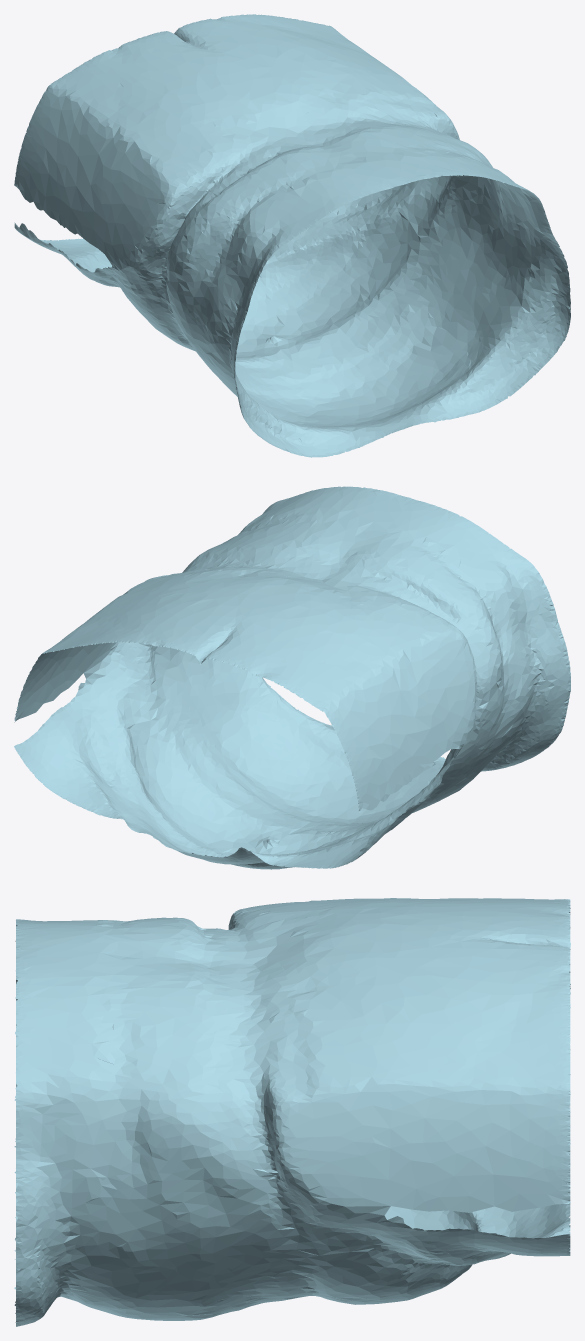
The model's file is skin.obj.
3 views of the same model, one above another, from view 1: azimuth 30°, elevation 25°; view 2: azimuth 150°, elevation 25°; view 3: azimuth 270°, elevation 25° (orthographic). The views are drawn at different scales.
Visible parts, largest first — view 1: grp1; view 2: grp1; view 3: grp1.
Part boxes in pixels (<box>): grp1: <box>14,14,570,457</box>; grp1: <box>14,486,570,869</box>; grp1: <box>14,898,570,1326</box>.
Size of the model in its own units: 413 by 314 by 448.
